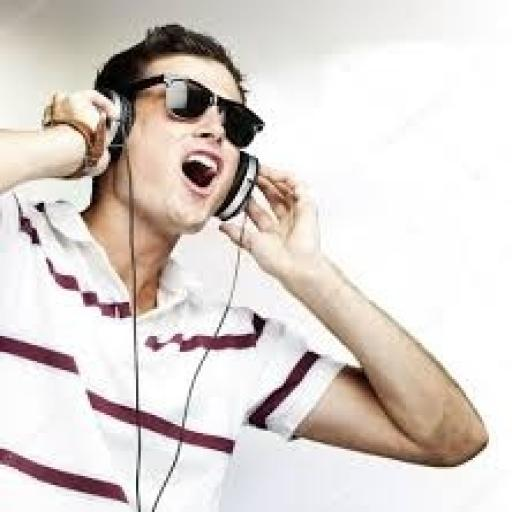listening_to_music: (0, 20, 494, 510)
